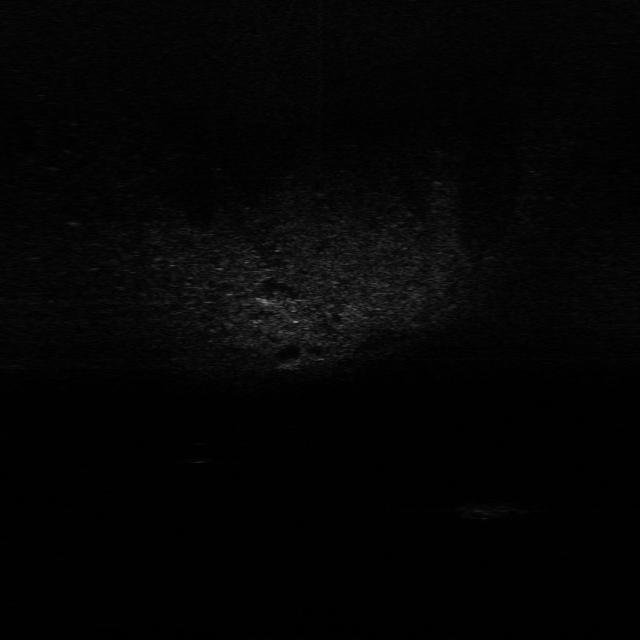ball: (183, 437, 218, 466)
circle cage: (457, 500, 534, 520)
